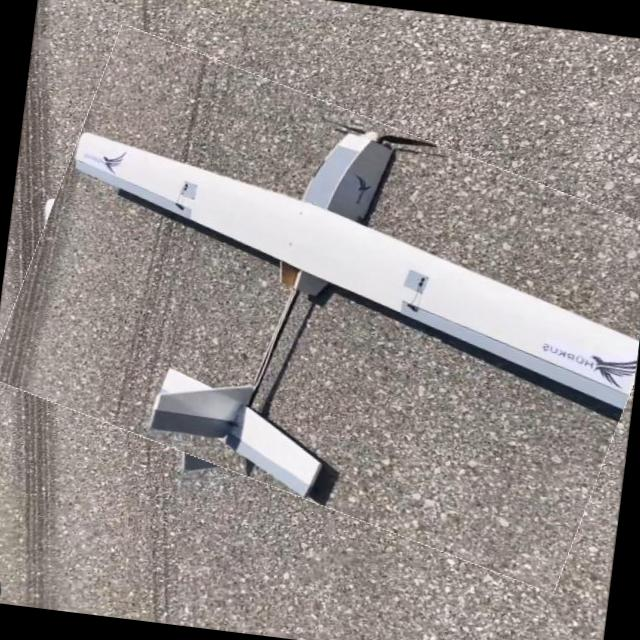UAV: (35, 45, 636, 557)
